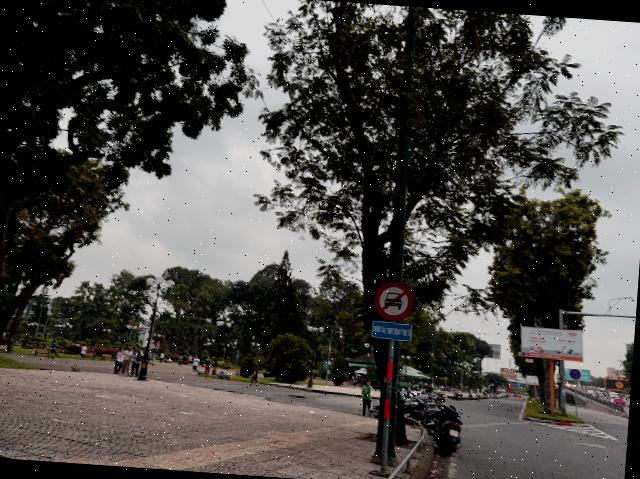cam-o-to: (372, 280, 414, 322)
